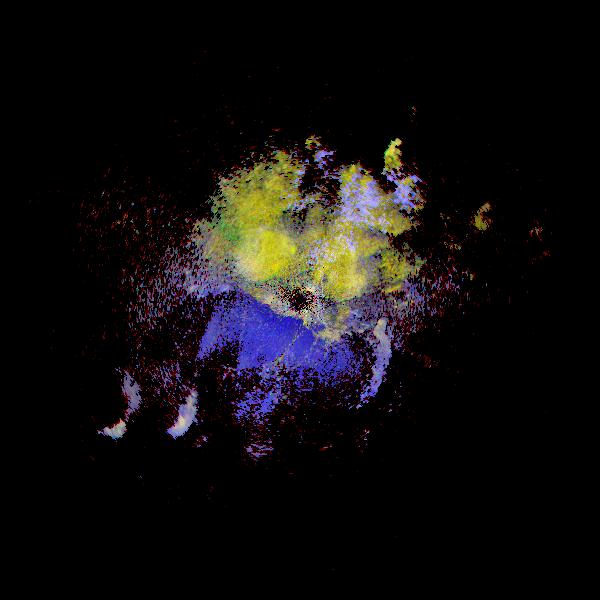roost: (58, 355, 151, 448), (119, 361, 206, 448)
